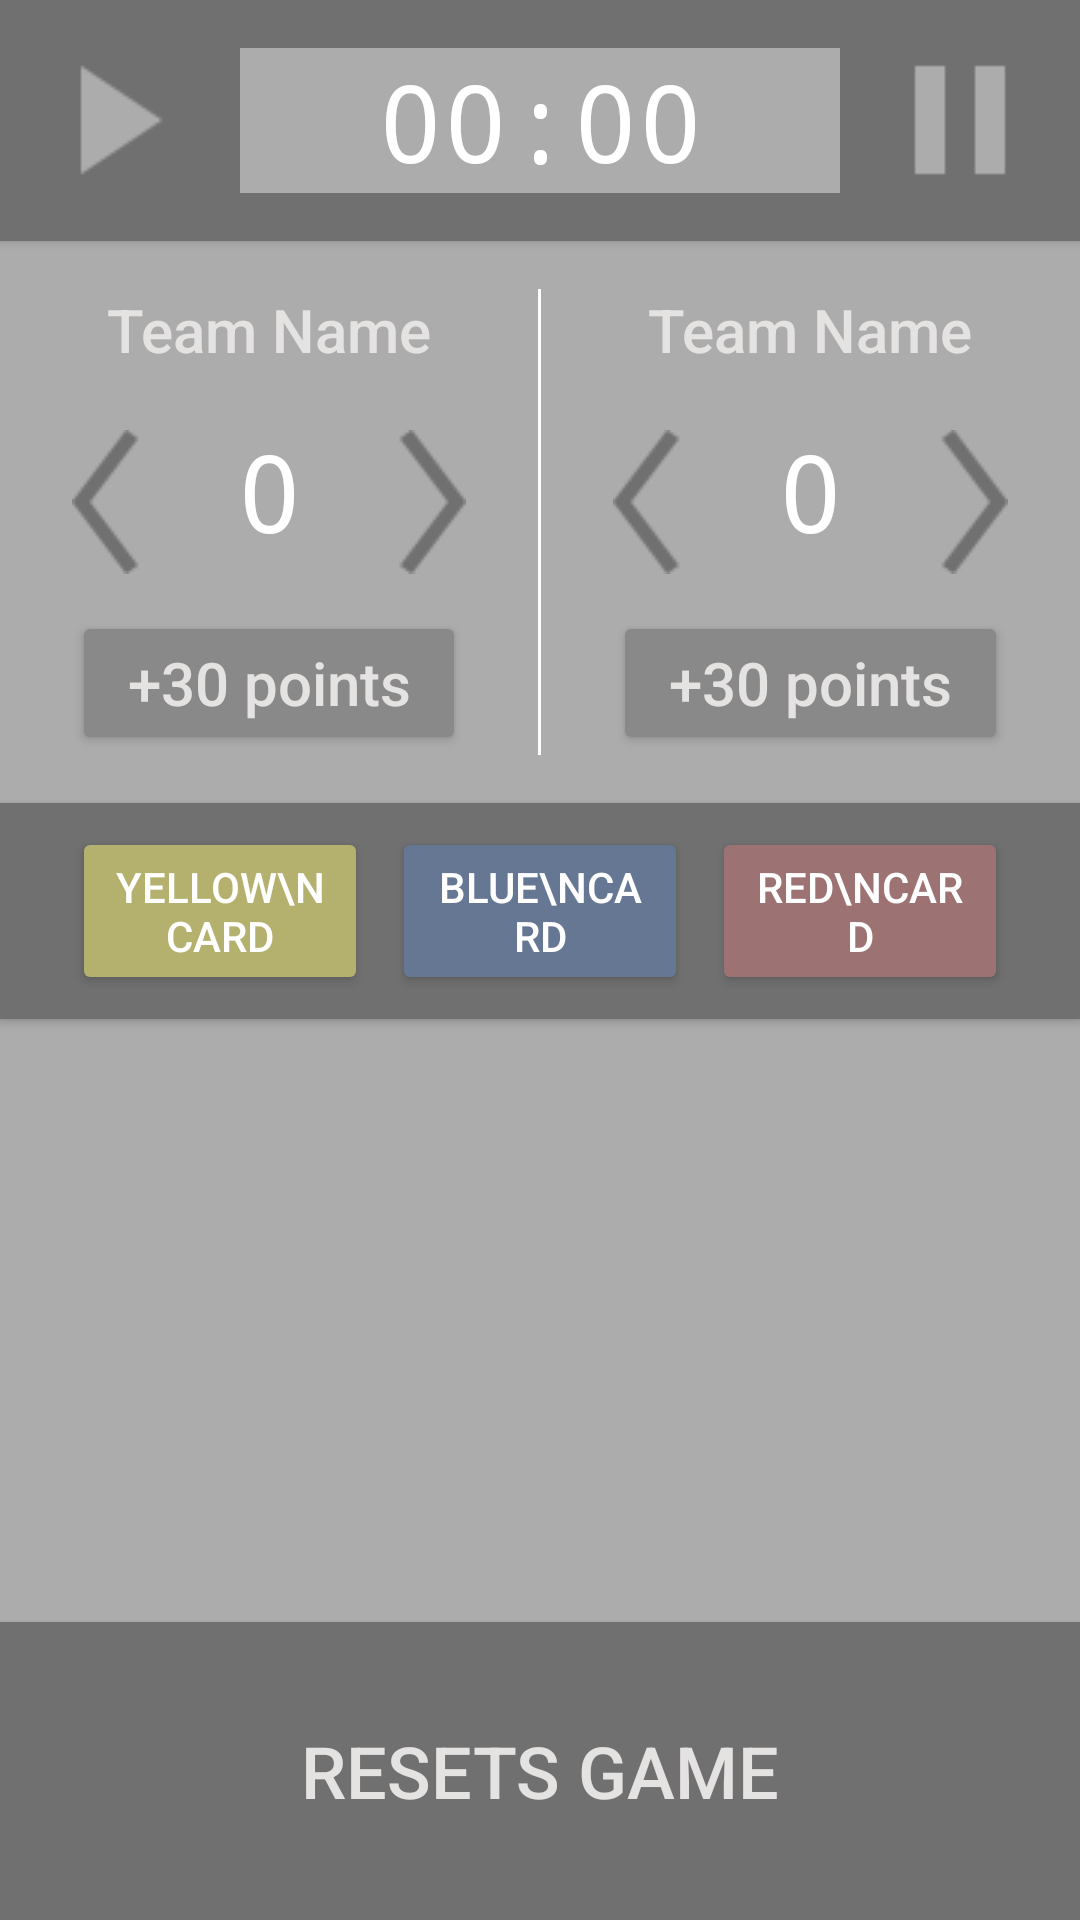

Screen size 1080 × 1920. Icon name, then its box in pixels as BBox(x1, y1, x2, y2):
pause: BBox(915, 66, 1005, 174)
play: BBox(81, 66, 160, 174)
